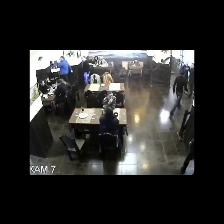person: (170, 71, 187, 115), (100, 107, 119, 134), (181, 137, 194, 174), (58, 57, 72, 81), (103, 91, 116, 109), (188, 64, 194, 97), (82, 56, 89, 84), (103, 73, 114, 85), (39, 81, 49, 93), (184, 62, 190, 80), (38, 57, 43, 61)
